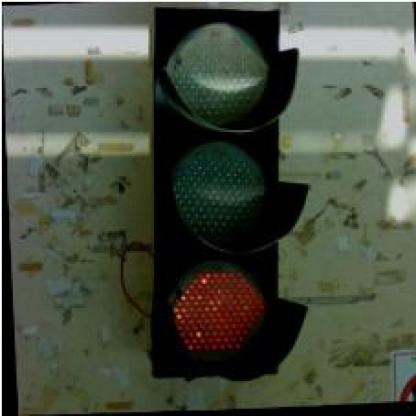red: (134, 5, 310, 384)
